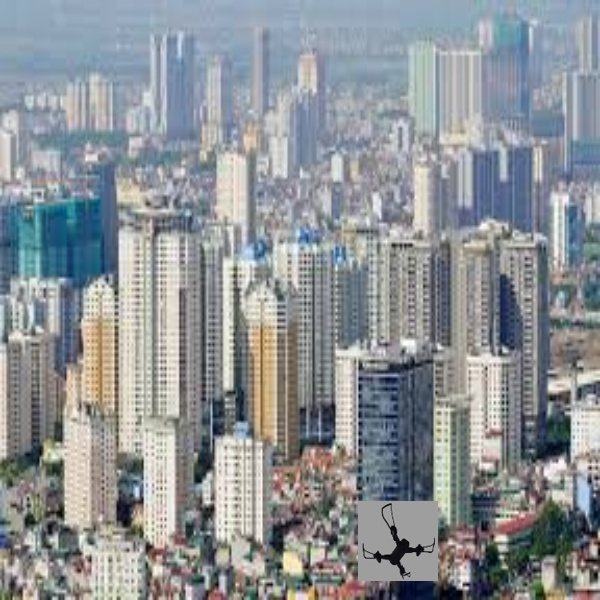drone: (358, 504, 438, 580)
